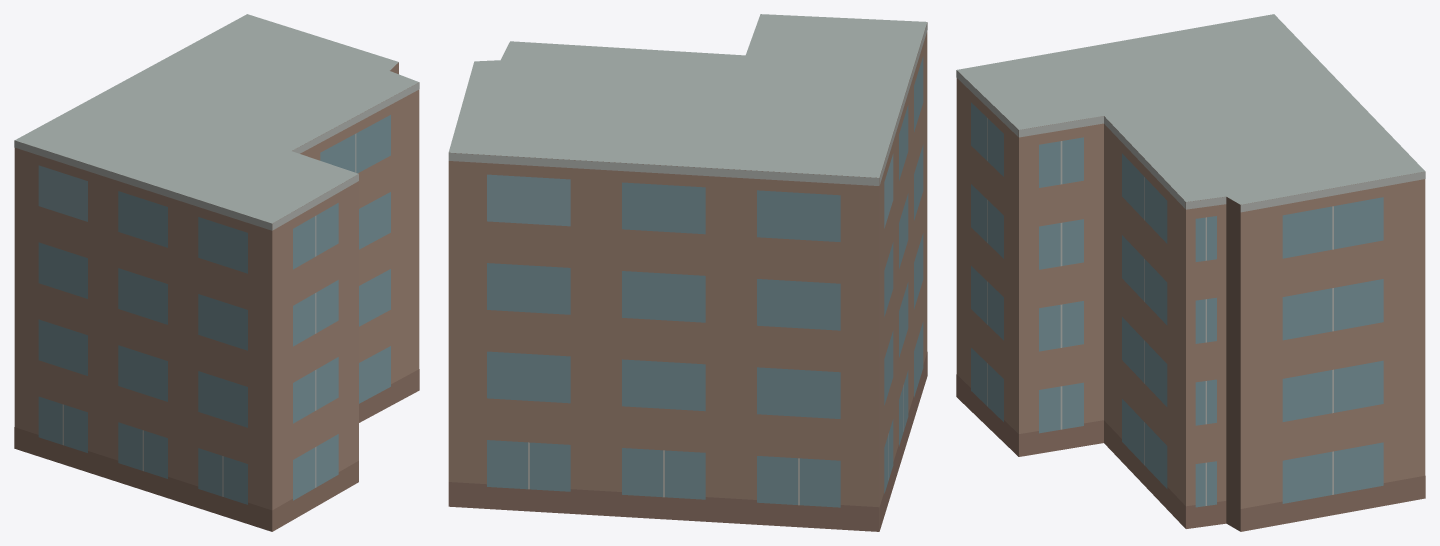
The model's file is survey-upis-32606834.glb.
The picture shows the model from 3 angles, left to right: view 1: azimuth 30°, elevation 25°; view 2: azimuth 150°, elevation 25°; view 3: azimuth 270°, elevation 25°; orthographic projection. The views are drawn at different scales.
Visible parts, largest first — view 1: survey-upis-32606834.tmp; view 2: survey-upis-32606834.tmp; view 3: survey-upis-32606834.tmp.
Part boxes in pixels (<box>): survey-upis-32606834.tmp: <box>14,14,419,531</box>; survey-upis-32606834.tmp: <box>448,14,927,531</box>; survey-upis-32606834.tmp: <box>956,14,1425,531</box>.
Size of the model in its own units: 13.15 by 10.5 by 13.66.
